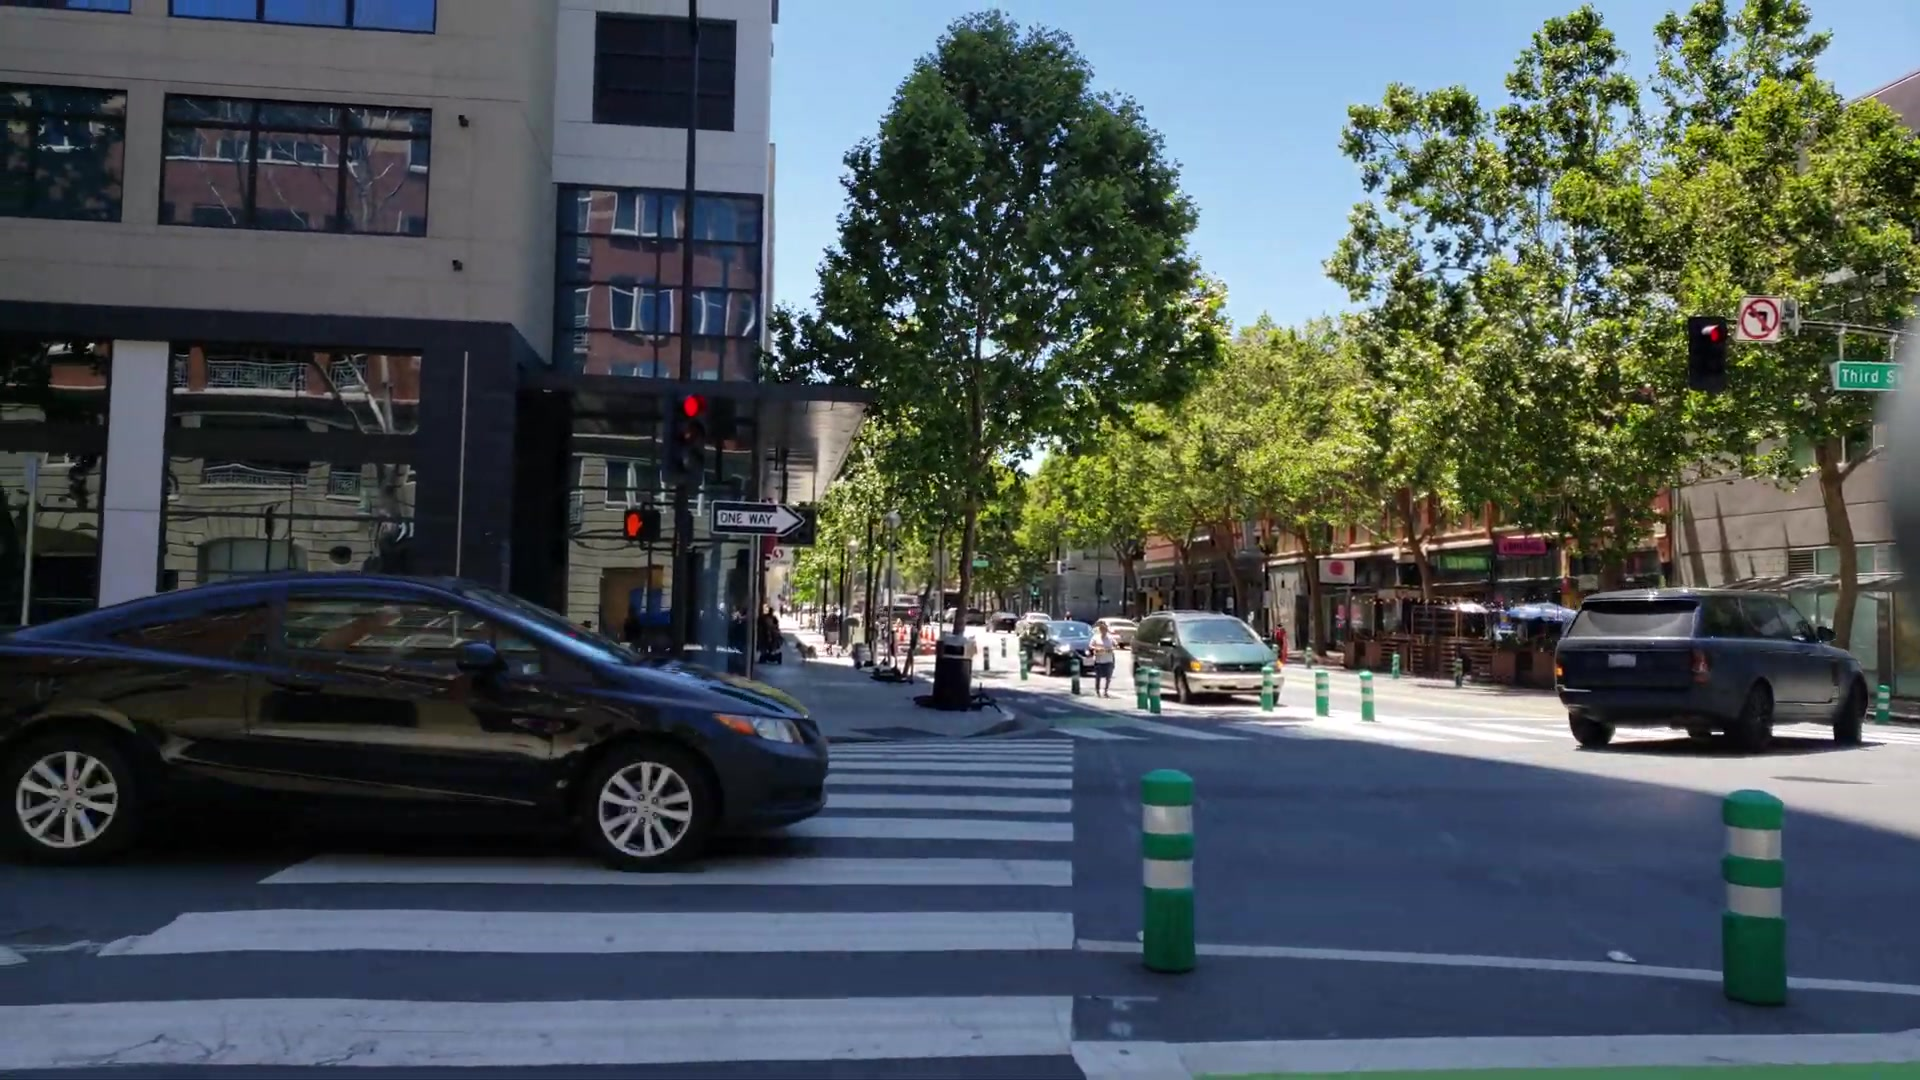vehicle: (11, 572, 832, 882), (1549, 589, 1871, 756), (1127, 611, 1283, 702), (1018, 617, 1096, 675)
